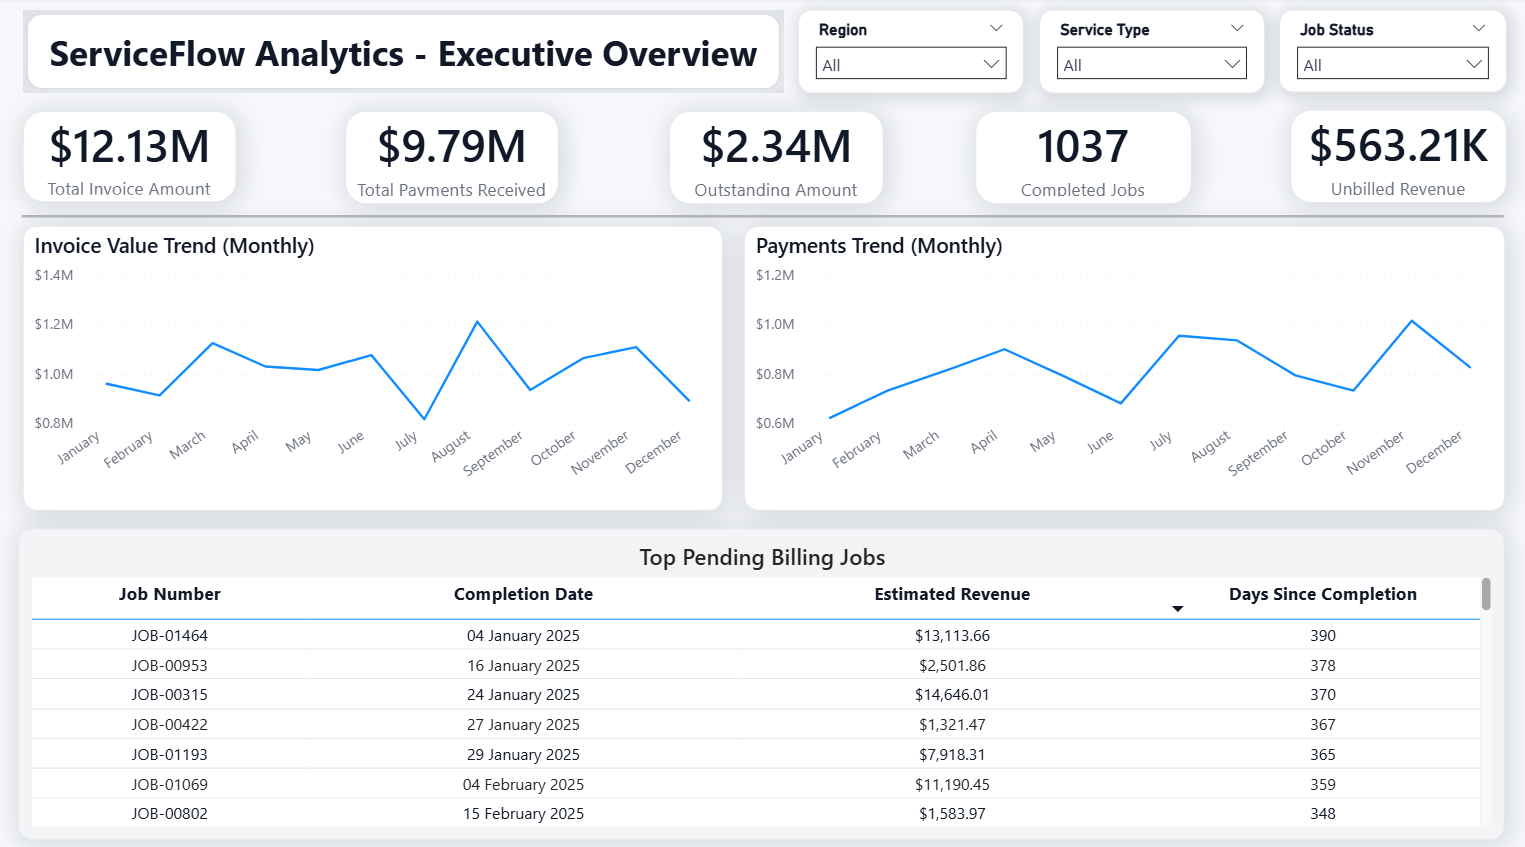

Layout of this report page (visuals, bound fields, positions):
{"tool":"powerbi","page":{"name":"Executive Summary","canvas":[1280,720],"ordinal":0},"visuals":[{"type":"slicer","fields":{"Values":["dim_region.region_name"]},"box":[669.9,10.5,189.8,70.2],"z":0},{"type":"card","title":"Total Invoiced Amount","fields":{"Values":["_Meaqsures.Total Invoice Amount"]},"box":[19.5,95.3,179.2,77],"z":1000},{"type":"card","title":"Total Invoiced Amount","fields":{"Values":["_Meaqsures.Total Payments Received"]},"box":[290.6,95.3,179.2,78.1],"z":2000},{"type":"card","title":"Total Invoiced Amount","fields":{"Values":["_Meaqsures.Outstanding Amount"]},"box":[561.7,95.3,180.3,78.1],"z":3000},{"type":"card","title":"Total Invoiced Amount","fields":{"Values":["_Meaqsures.Completed Jobs"]},"box":[819,95.3,181.5,78.1],"z":4000},{"type":"card","title":"Total Invoiced Amount","fields":{"Values":["_Meaqsures.Unbilled Revenue Exposure"]},"box":[1083.2,94.2,181.5,78.1],"z":5000},{"type":"lineChart","title":"Invoice Value Trend (Monthly)","fields":{"Category":["invoices.invoice_date.Variation.Date Hierarchy.Month"],"Y":["_Meaqsures.Total Invoice Amount"]},"box":[19.5,191.8,587,238.9],"z":6000},{"type":"lineChart","title":"Payments Trend (Monthly)","fields":{"Category":["payments.payment_date.Variation.Date Hierarchy.Month"],"Y":["_Meaqsures.Total Payments Received"]},"box":[624.9,191.8,638.7,238.9],"z":7000},{"type":"tableEx","title":"Top Pending Billing Jobs","fields":{"Values":["jobs.job_number","jobs.completed_date","jobs.estimated_revenue","jobs.Days Pending Invoice"]},"box":[16.1,445.7,1247.5,261.9],"z":8000},{"type":"slicer","fields":{"Values":["dim_service_type.service_name"]},"box":[871.9,10.3,189.5,70.1],"z":9000},{"type":"slicer","fields":{"Values":["dim_invoice_status.status_code"]},"box":[1073.1,10.4,190.9,69.6],"z":10000},{"type":"shape","box":[19.9,10.5,638.4,70.2],"z":11000},{"type":"shape","box":[18.9,147.9,1243.2,72.2],"z":12000}]}

Visuals, with their boxes in screenshot pixels (x1, y1, x2, y2), scaled from the page's 1280x720 canvas onto the 1525x847 screenshot:
slicer - dim_region.region_name: (x1=798, y1=12, x2=1024, y2=95)
"Total Invoiced Amount" card: (x1=23, y1=112, x2=237, y2=203)
"Total Invoiced Amount" card: (x1=346, y1=112, x2=560, y2=204)
"Total Invoiced Amount" card: (x1=669, y1=112, x2=884, y2=204)
"Total Invoiced Amount" card: (x1=976, y1=112, x2=1192, y2=204)
"Total Invoiced Amount" card: (x1=1291, y1=111, x2=1507, y2=203)
"Invoice Value Trend (Monthly)" lineChart: (x1=23, y1=226, x2=723, y2=507)
"Payments Trend (Monthly)" lineChart: (x1=745, y1=226, x2=1505, y2=507)
"Top Pending Billing Jobs" tableEx: (x1=19, y1=524, x2=1505, y2=832)
slicer - dim_service_type.service_name: (x1=1039, y1=12, x2=1265, y2=95)
slicer - dim_invoice_status.status_code: (x1=1278, y1=12, x2=1506, y2=94)
shape: (x1=24, y1=12, x2=784, y2=95)
shape: (x1=23, y1=174, x2=1504, y2=259)
